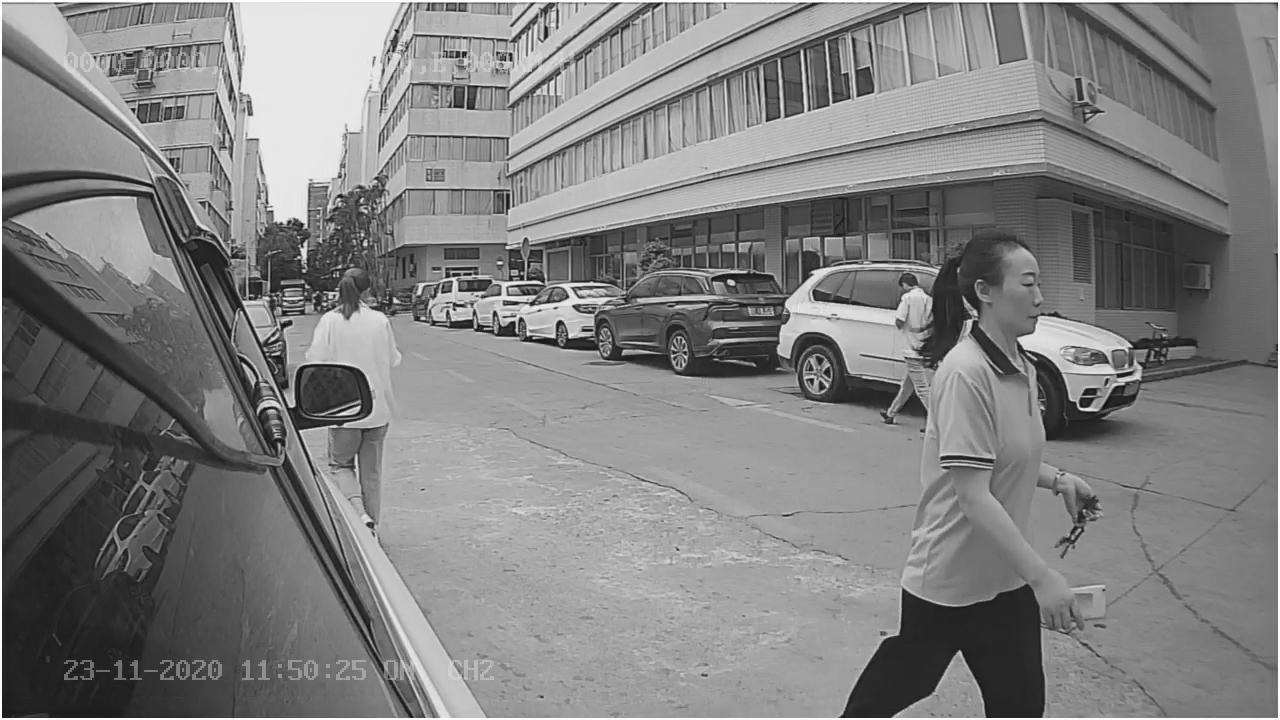person: (917, 231, 1109, 525), (300, 262, 406, 365)
